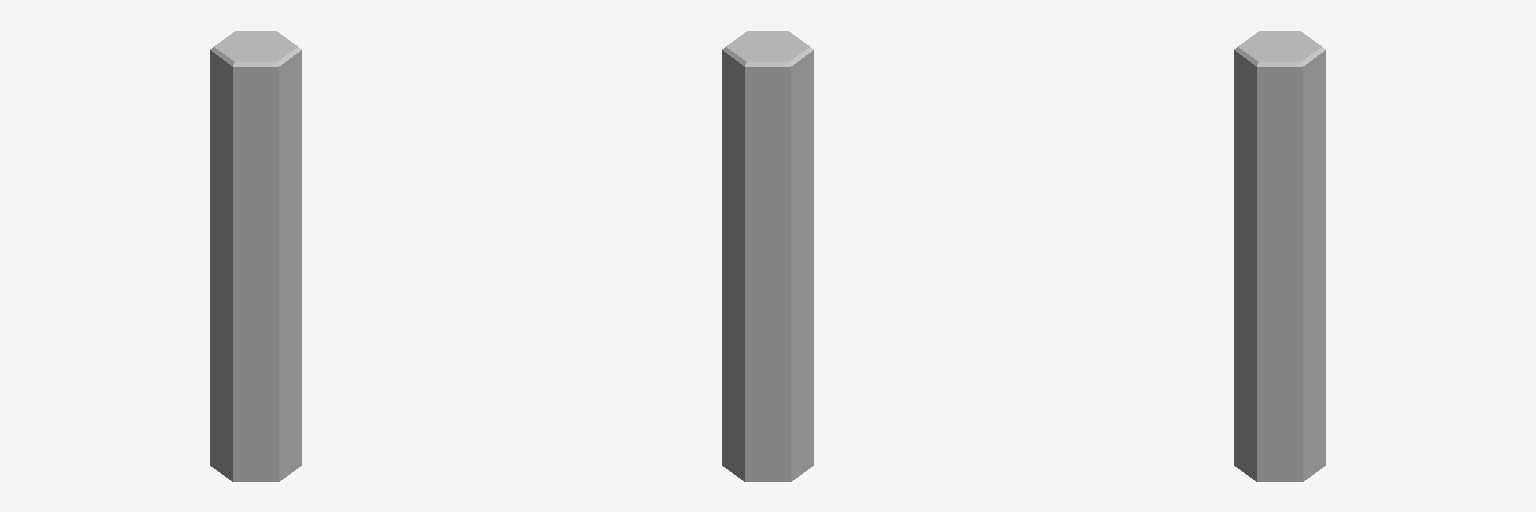
File: hexagon.obj
The picture shows the model from 3 angles: view 1: azimuth 30°, elevation 25°; view 2: azimuth 150°, elevation 25°; view 3: azimuth 270°, elevation 25°; orthographic projection.
Visible parts, largest first — view 1: Cylinder; view 2: Cylinder; view 3: Cylinder.
Boxes of the visible parts, x1,y1,x2,y2 form: Cylinder: [210, 31, 301, 481]; Cylinder: [722, 31, 813, 481]; Cylinder: [1234, 31, 1325, 481].
Bounding box in the file's own units: 1.73 × 10 × 2.